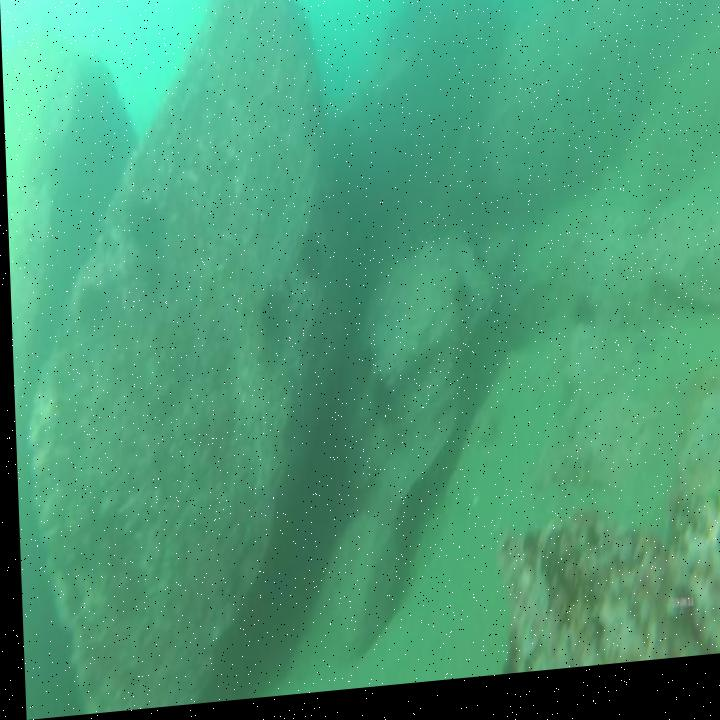echinus: (250, 283, 289, 350), (292, 232, 323, 291), (364, 374, 393, 430)
